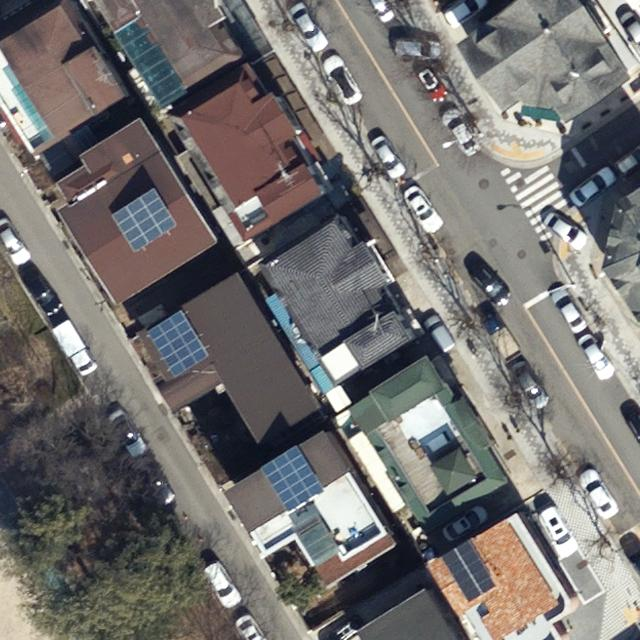panel: (142, 305, 216, 380), (108, 188, 181, 256), (258, 441, 324, 514), (440, 540, 499, 604)
